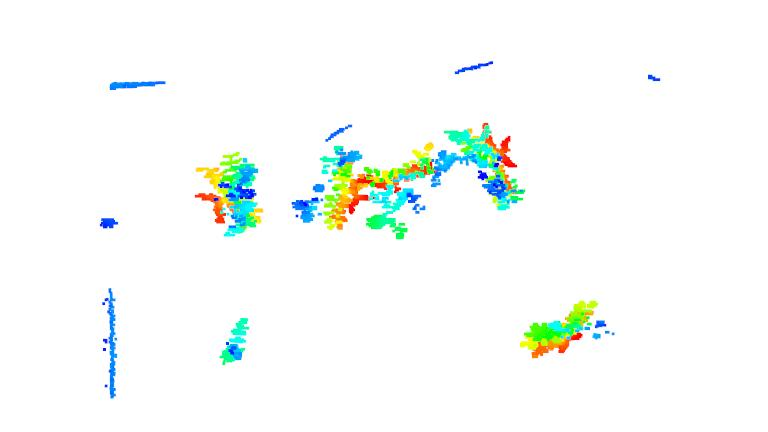chickpea: (436, 126, 526, 212), (364, 136, 438, 240), (291, 140, 365, 233), (194, 146, 266, 238), (521, 299, 603, 360), (216, 315, 254, 367)
